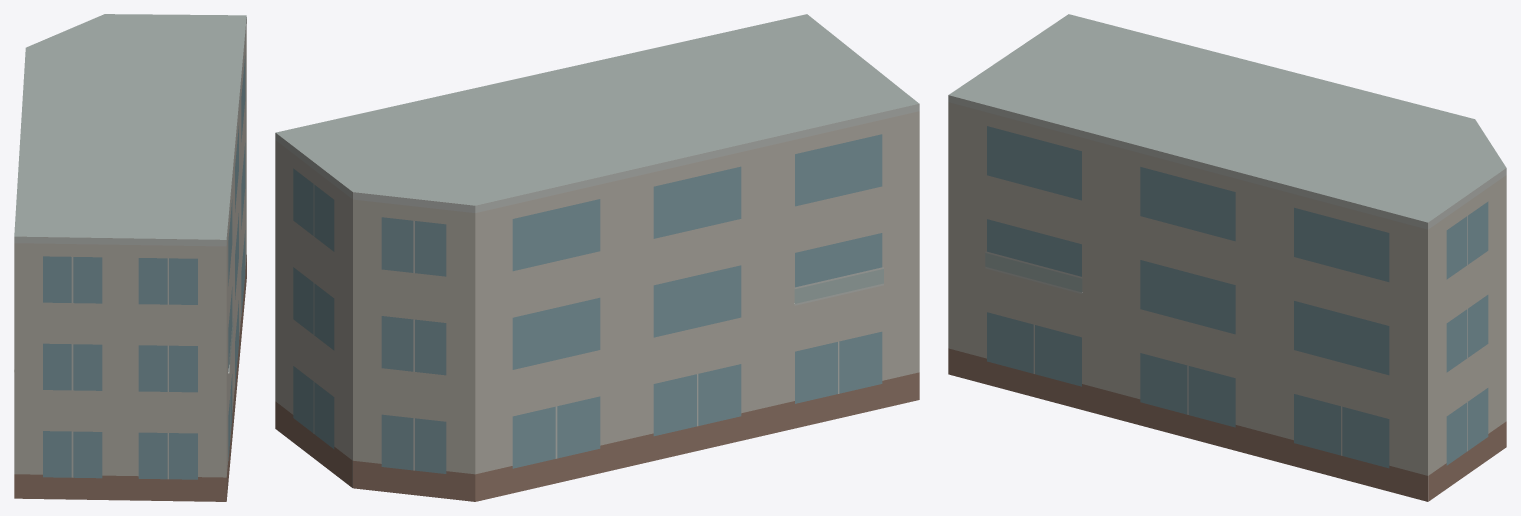
File: survey-upis-32883288.glb
3 renders of one model, left to right at view 1: azimuth 30°, elevation 25°; view 2: azimuth 150°, elevation 25°; view 3: azimuth 270°, elevation 25°, orthographic. The views are drawn at different scales.
Visible parts, largest first — view 1: survey-upis-32883288.tmp; view 2: survey-upis-32883288.tmp; view 3: survey-upis-32883288.tmp.
Part boxes in pixels (x1,y1,x2,y2): survey-upis-32883288.tmp: (14, 14, 246, 501); survey-upis-32883288.tmp: (275, 14, 919, 501); survey-upis-32883288.tmp: (948, 14, 1506, 501).
Bounding box in the file's own units: 15.55 × 9.7 × 17.59.
